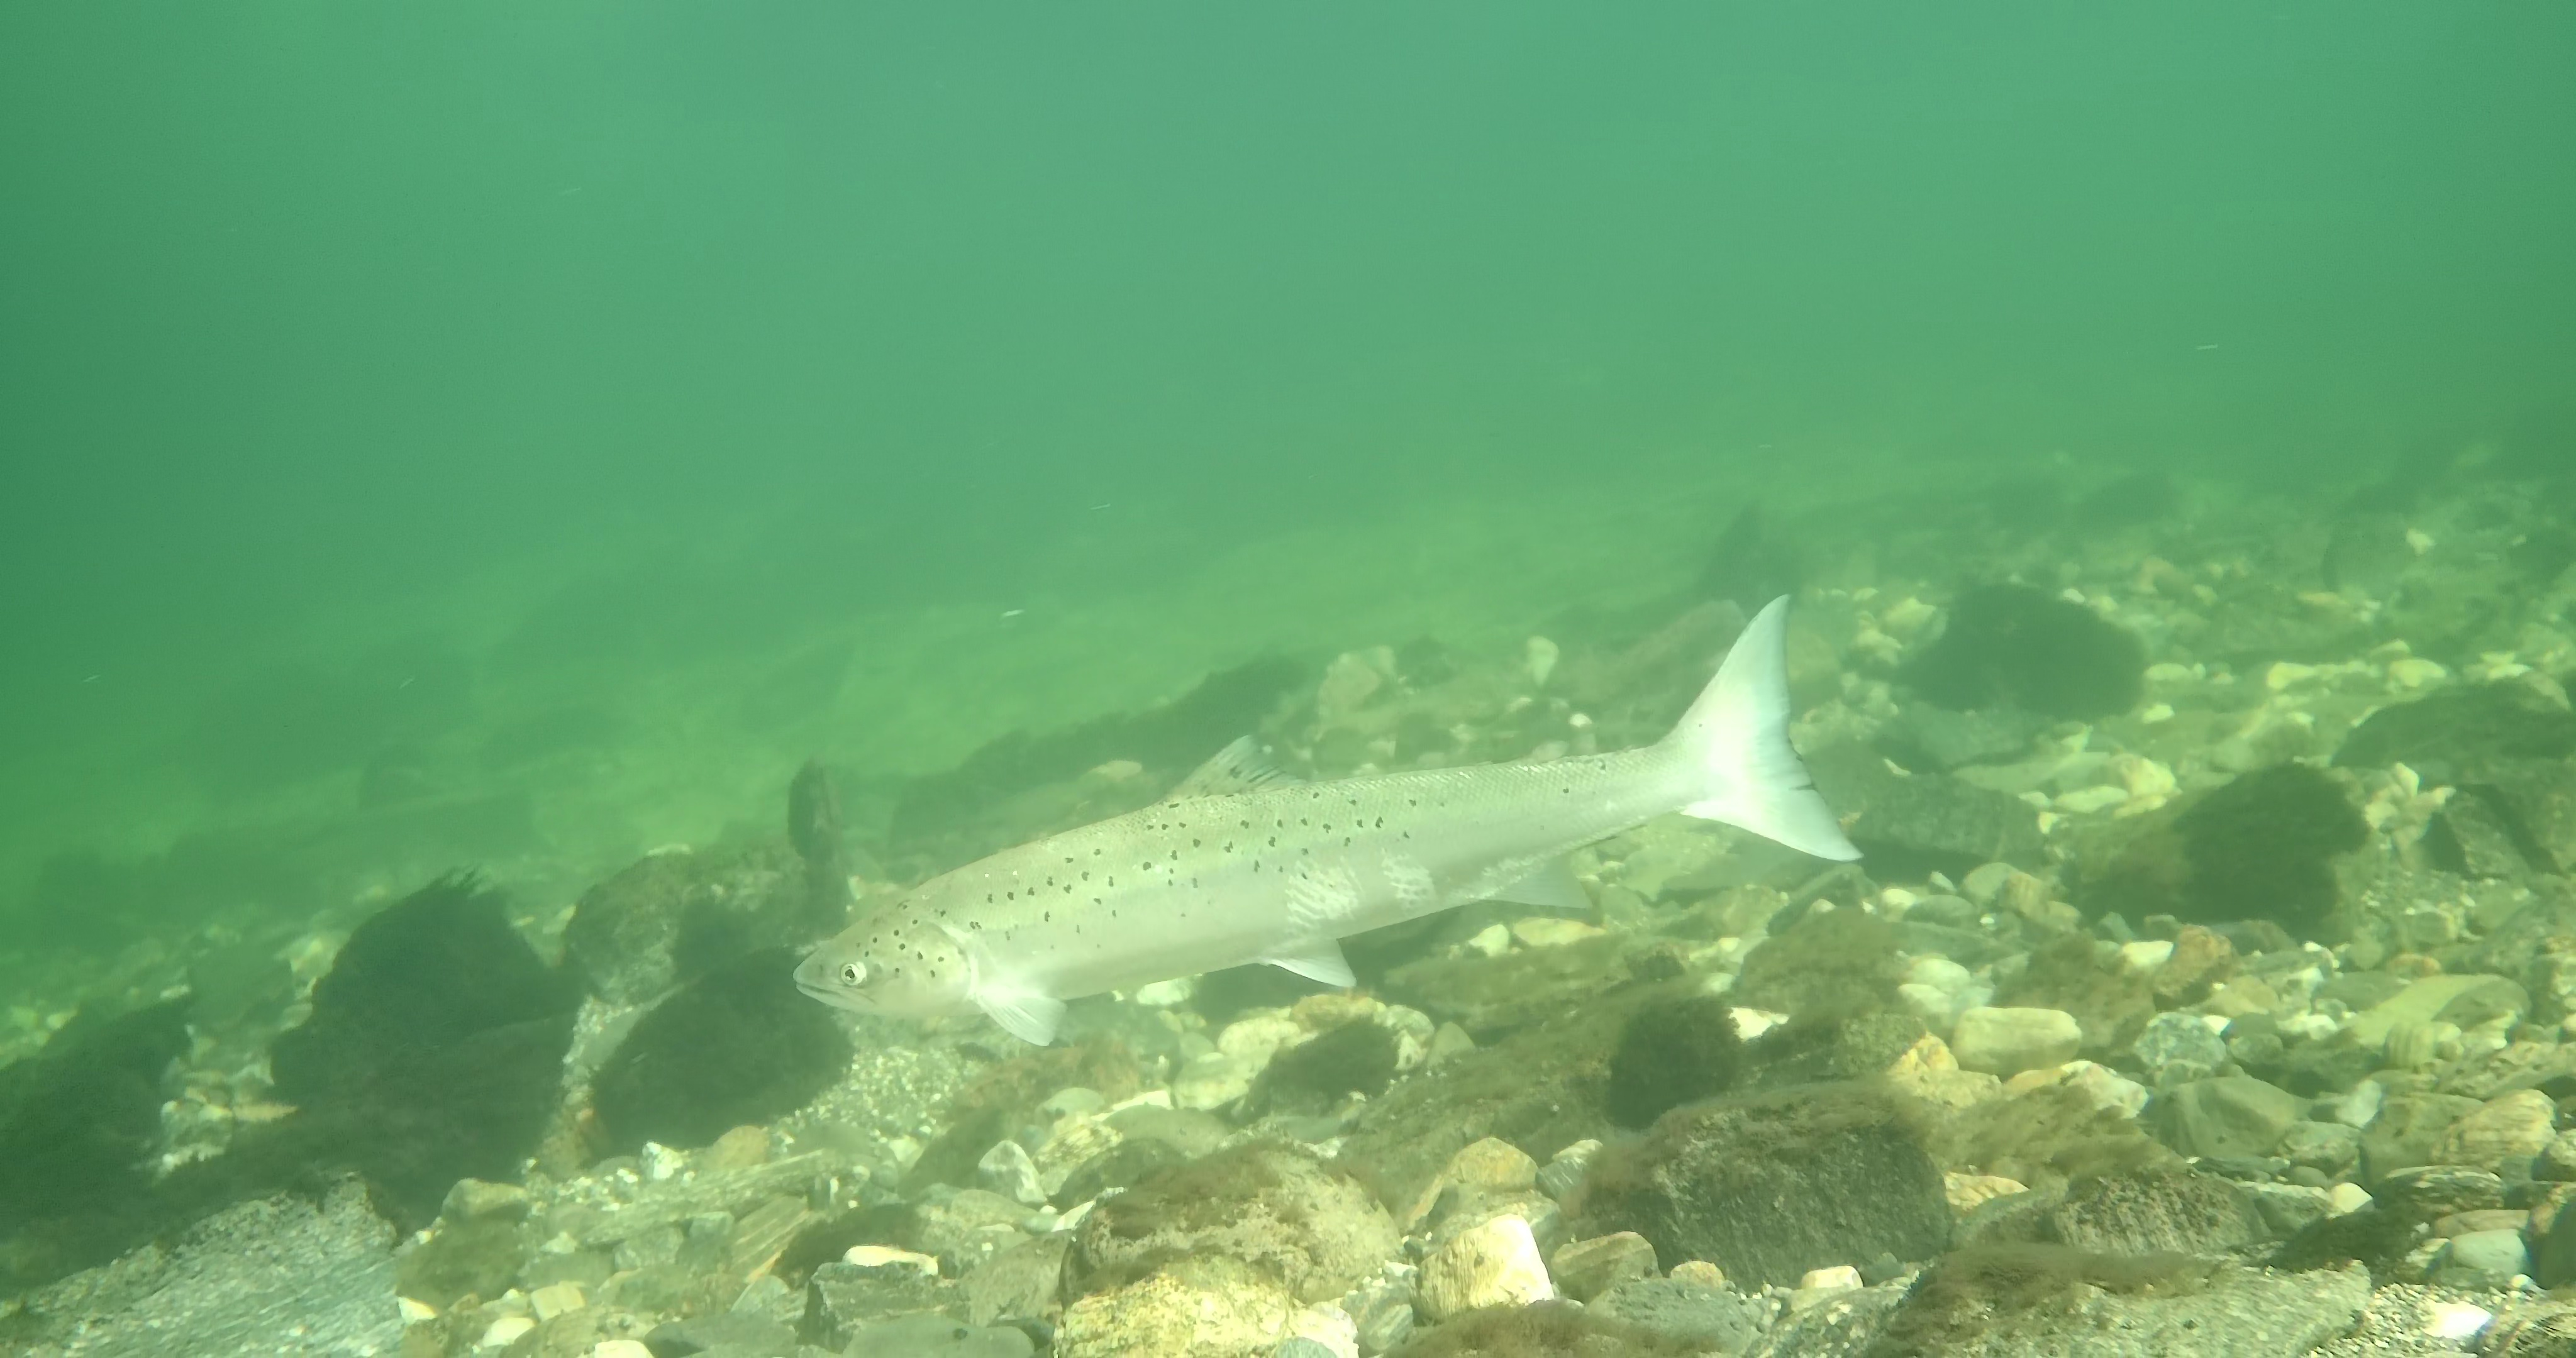salmon: (791, 590, 1864, 1048)
